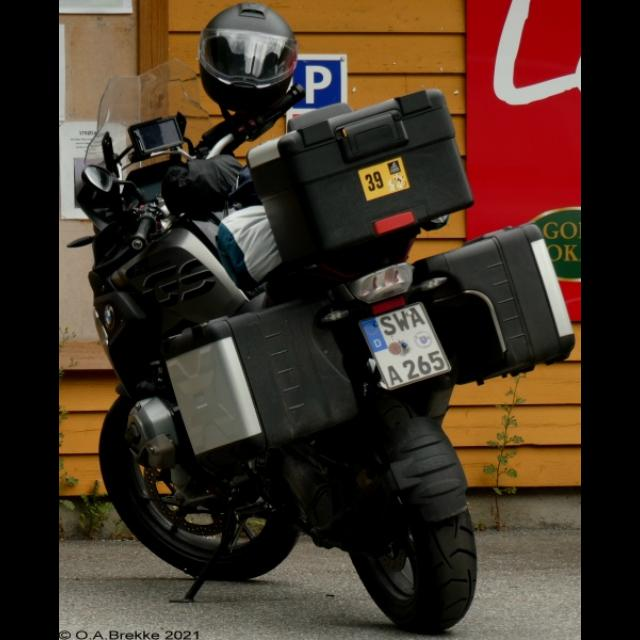d_license_plate: (358, 301, 450, 389)
